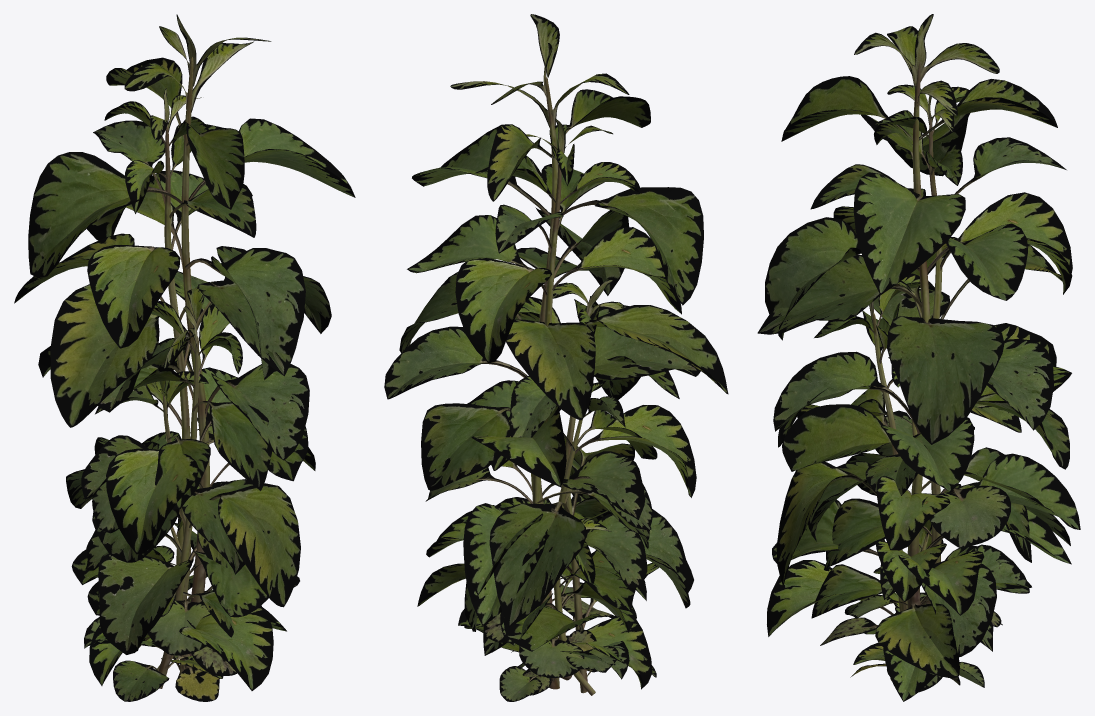
File: nettle_plant.glb
The picture shows the model from 3 angles, left to right: view 1: azimuth 30°, elevation 25°; view 2: azimuth 150°, elevation 25°; view 3: azimuth 270°, elevation 25°; orthographic projection. The views are drawn at different scales.
Parts seen in each view (by area): view 1: nettle_plant_4, nettle_plant_0, nettle_plant_5, nettle_plant_1, nettle_plant_2, nettle_plant_3; view 2: nettle_plant_4, nettle_plant_5, nettle_plant_0, nettle_plant_1, nettle_plant_2, nettle_plant_3; view 3: nettle_plant_4, nettle_plant_5, nettle_plant_0, nettle_plant_1, nettle_plant_2, nettle_plant_3.
Boxes of the visible parts, x1,y1,x2,y2 form: nettle_plant_4: [28, 14, 355, 676]; nettle_plant_0: [66, 287, 300, 701]; nettle_plant_5: [14, 88, 308, 669]; nettle_plant_1: [85, 364, 262, 670]; nettle_plant_2: [89, 514, 286, 701]; nettle_plant_3: [84, 589, 223, 678]; nettle_plant_4: [399, 14, 728, 689]; nettle_plant_5: [384, 118, 700, 680]; nettle_plant_0: [464, 279, 696, 693]; nettle_plant_1: [465, 383, 657, 695]; nettle_plant_2: [464, 496, 652, 695]; nettle_plant_3: [458, 609, 629, 701]; nettle_plant_4: [765, 14, 1072, 677]; nettle_plant_5: [757, 84, 1080, 680]; nettle_plant_0: [767, 273, 1070, 692]; nettle_plant_1: [808, 357, 1031, 618]; nettle_plant_2: [844, 519, 993, 701]; nettle_plant_3: [853, 592, 984, 687].
Size of the model in its own units: 0.1036 by 0.2168 by 0.0947.
Materials: 1 (1 with a texture image).
